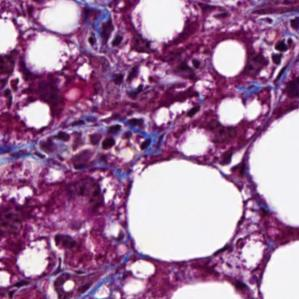inflammation: (44, 108, 155, 169), (84, 31, 149, 89), (256, 13, 299, 73)
